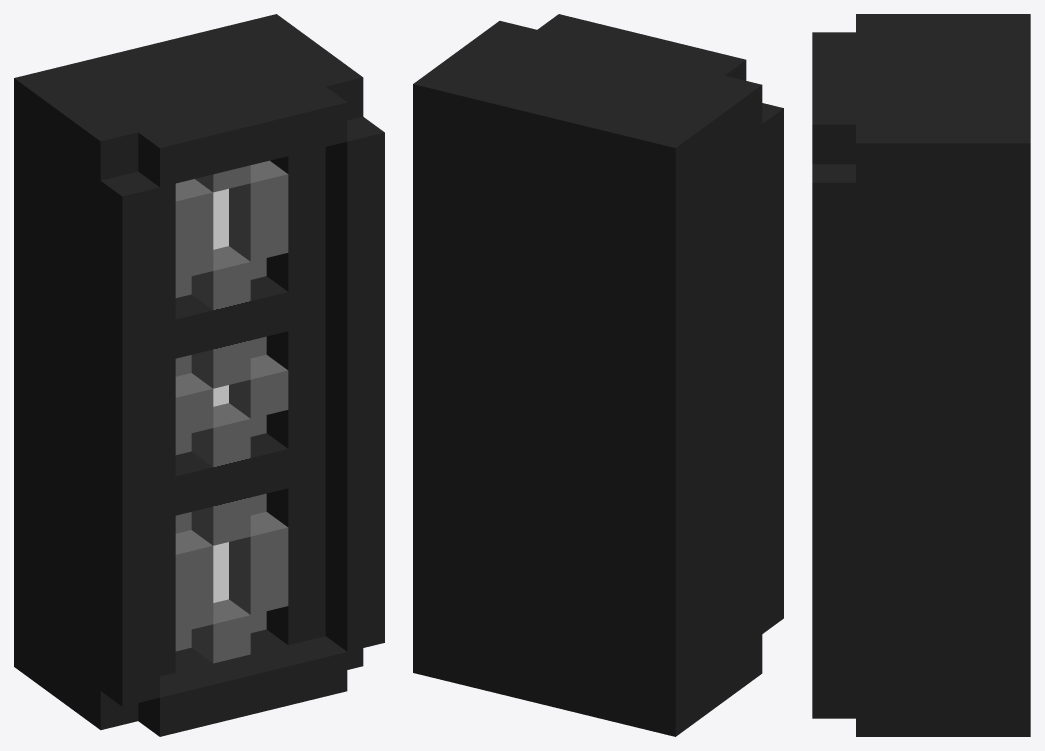
The model's file is glosnik.dae.
3 renders of one model, left to right at view 1: azimuth 30°, elevation 25°; view 2: azimuth 150°, elevation 25°; view 3: azimuth 270°, elevation 25°, orthographic.
Parts seen in each view (by area): view 1: glosnik; view 2: glosnik; view 3: glosnik.
Boxes of the visible parts, bbox=[...] form: glosnik: bbox=[14, 14, 384, 736]; glosnik: bbox=[413, 14, 783, 736]; glosnik: bbox=[812, 14, 1030, 736].
Size of the model in its own units: 7 by 15 by 5.
Materials: 1 (1 with a texture image).
